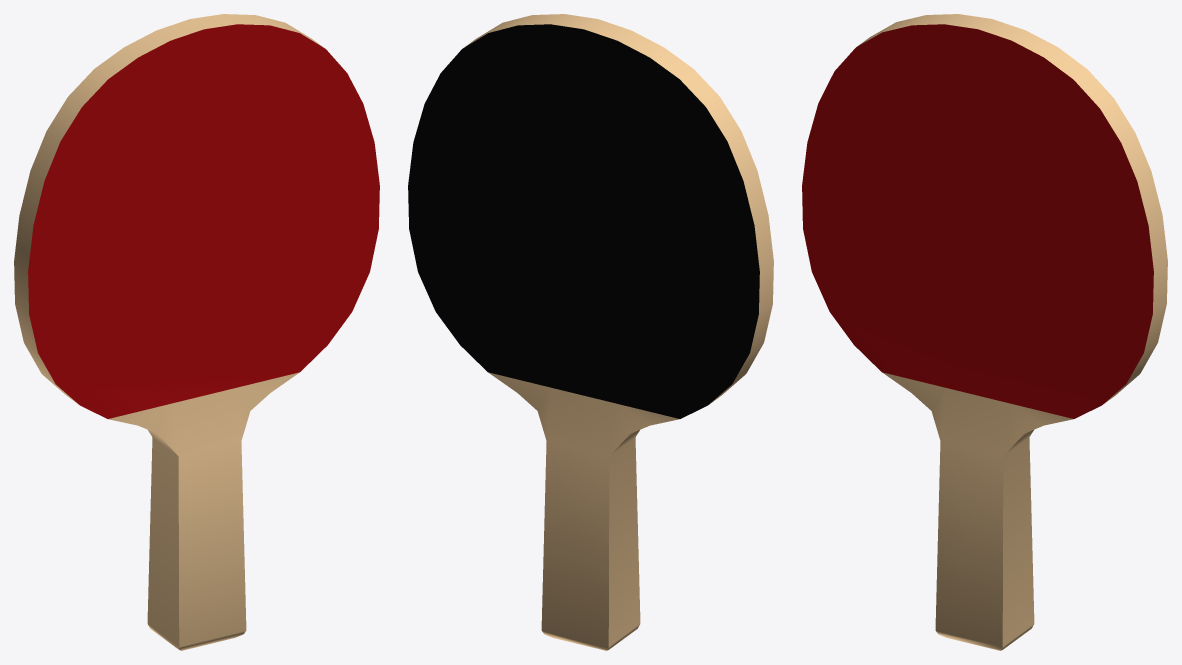
3 views of the same model, side by side, from view 1: azimuth 30°, elevation 25°; view 2: azimuth 150°, elevation 25°; view 3: azimuth 330°, elevation 25° (orthographic).
Parts seen in each view (by area): view 1: PingPongPaddle; view 2: PingPongPaddle; view 3: PingPongPaddle.
Boxes of the visible parts, x1,y1,x2,y2 form: PingPongPaddle: (14, 14, 379, 650); PingPongPaddle: (408, 14, 773, 650); PingPongPaddle: (802, 14, 1167, 650).
Bounding box in the file's own units: 0.2055 × 0.3414 × 0.0321.
1 material, 1 textured.
